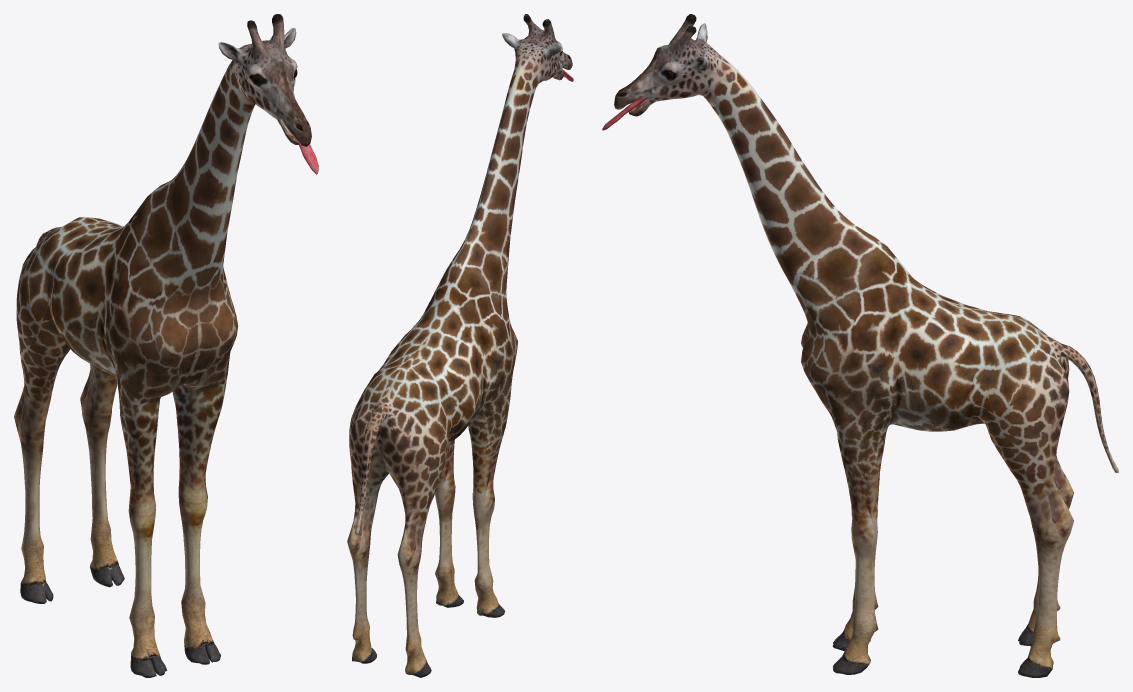
File: giraffe.dae
3 renders of one model, left to right at view 1: azimuth 30°, elevation 25°; view 2: azimuth 150°, elevation 25°; view 3: azimuth 270°, elevation 25°, orthographic. The views are drawn at different scales.
Visible parts, largest first — view 1: Giraffe; view 2: Giraffe; view 3: Giraffe.
Boxes of the visible parts, bbox=[...] form: Giraffe: bbox=[14, 14, 311, 677]; Giraffe: bbox=[347, 14, 572, 677]; Giraffe: bbox=[614, 14, 1118, 677].
Bounding box in the file's own units: 72.27 × 304 × 414.
Materials: 1 (1 with a texture image).
